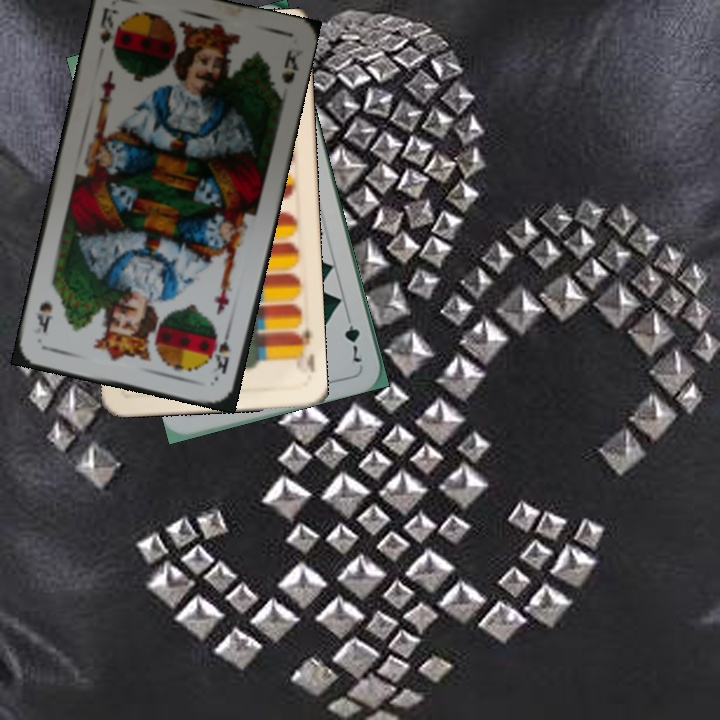E10: (289, 323, 314, 349)
G7: (340, 308, 365, 365)
SK: (96, 3, 122, 54), (209, 324, 234, 377)
